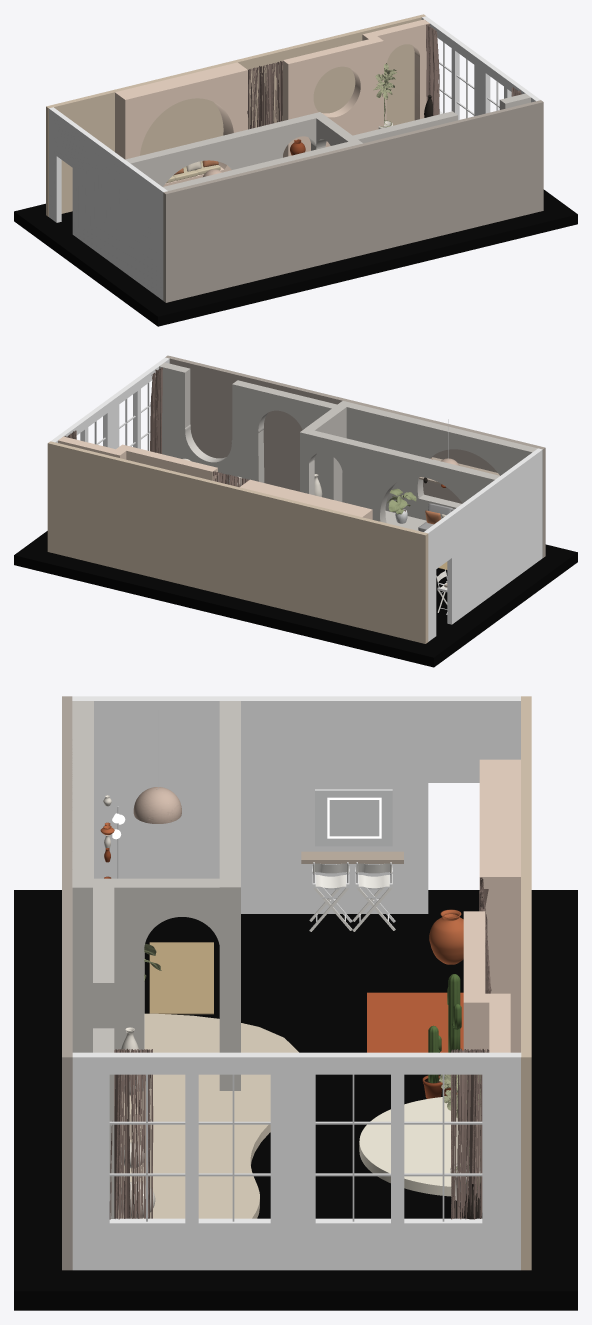
The model's file is terra-lowres.glb.
The picture shows the model from 3 angles, top to bottom: view 1: azimuth 30°, elevation 25°; view 2: azimuth 150°, elevation 25°; view 3: azimuth 270°, elevation 25°; orthographic projection. The views are drawn at different scales.
Parts seen in each view (by area): view 1: Cube.008, Concrete Slab.001, Cube.001, Cube.009, Cube.020, Cube.011, Cube.012, Cube.010, Cube.022, Curtain.001, Cube.024, Cube.025 (+3 smaller); view 2: Cube.001, Concrete Slab.001, Cube.009, Cube.008, Cube.024, Cube.012, Cube.025, Cube.010, Cube.019, Cube.011, Cube.020, Curtain.003 (+3 smaller); view 3: Concrete Slab.001, Cube.009, Cube.010, Right Lower, Cube.019, Cube.011, Cube.012, Cube.001, Cube.008, Cylinder.001, Curtain.003, Rug north nook (+11 smaller).
Boxes of the visible parts, x1=… form: Cube.008: x1=163, y1=100, x2=543, y2=302; Concrete Slab.001: x1=14, y1=189, x2=577, y2=326; Cube.001: x1=46, y1=14, x2=425, y2=216; Cube.009: x1=49, y1=107, x2=167, y2=300; Cube.020: x1=283, y1=37, x2=383, y2=157; Cube.011: x1=115, y1=62, x2=247, y2=169; Cube.012: x1=125, y1=112, x2=325, y2=186; Cube.010: x1=421, y1=16, x2=540, y2=120; Cube.022: x1=372, y1=19, x2=429, y2=120; Curtain.001: x1=247, y1=61, x2=283, y2=129; Cube.024: x1=353, y1=93, x2=530, y2=143; Cube.025: x1=163, y1=142, x2=353, y2=190; Cube.001: x1=47, y1=441, x2=428, y2=643; Concrete Slab.001: x1=14, y1=531, x2=577, y2=667; Cube.009: x1=424, y1=448, x2=542, y2=641; Cube.008: x1=165, y1=355, x2=545, y2=557; Cube.024: x1=159, y1=362, x2=337, y2=497; Cube.012: x1=300, y1=428, x2=499, y2=522; Cube.025: x1=346, y1=403, x2=537, y2=498; Cube.010: x1=51, y1=357, x2=169, y2=449; Cube.019: x1=305, y1=401, x2=351, y2=501; Cube.011: x1=240, y1=479, x2=372, y2=519; Cube.020: x1=117, y1=444, x2=217, y2=481; Curtain.003: x1=150, y1=367, x2=162, y2=453; Concrete Slab.001: x1=14, y1=890, x2=577, y2=1310; Cube.009: x1=72, y1=696, x2=520, y2=913; Cube.010: x1=72, y1=1052, x2=521, y2=1270; Right Lower: x1=118, y1=1013, x2=298, y2=1218; Cube.019: x1=72, y1=878, x2=219, y2=1090; Cube.011: x1=479, y1=759, x2=520, y2=1052; Cube.012: x1=219, y1=701, x2=240, y2=1090; Cube.001: x1=521, y1=696, x2=531, y2=1270; Cube.008: x1=62, y1=696, x2=72, y2=1270; Cylinder.001: x1=359, y1=1097, x2=461, y2=1196; Curtain.003: x1=109, y1=1048, x2=153, y2=1219; Rug north nook: x1=367, y1=992, x2=463, y2=1052.
Bounding box in the file's own units: 13.55 × 4.54 × 8.05.
